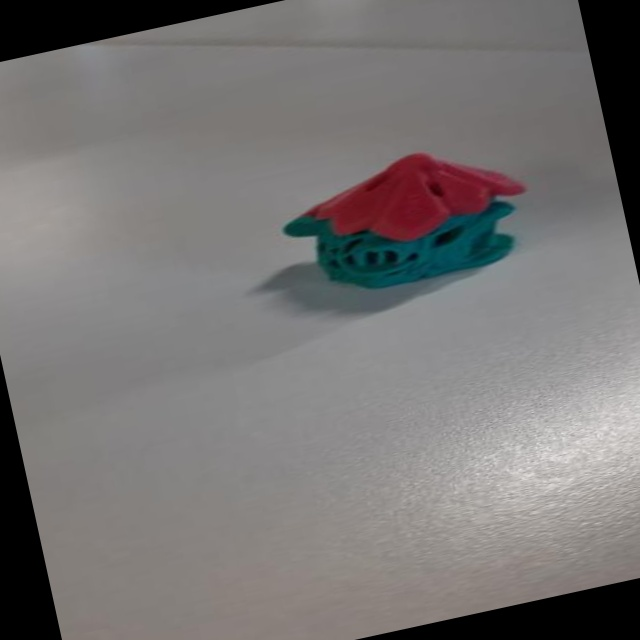House: (266, 127, 540, 325)
